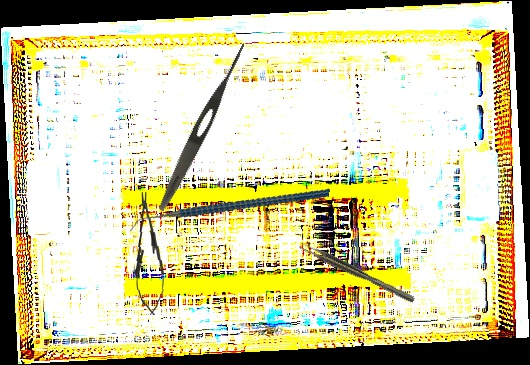Chopper: (128, 152, 331, 271)
Dressing Forceps: (154, 38, 251, 214)
Needle Holder: (129, 191, 168, 316)
Tissue Forceps: (297, 239, 416, 307)
